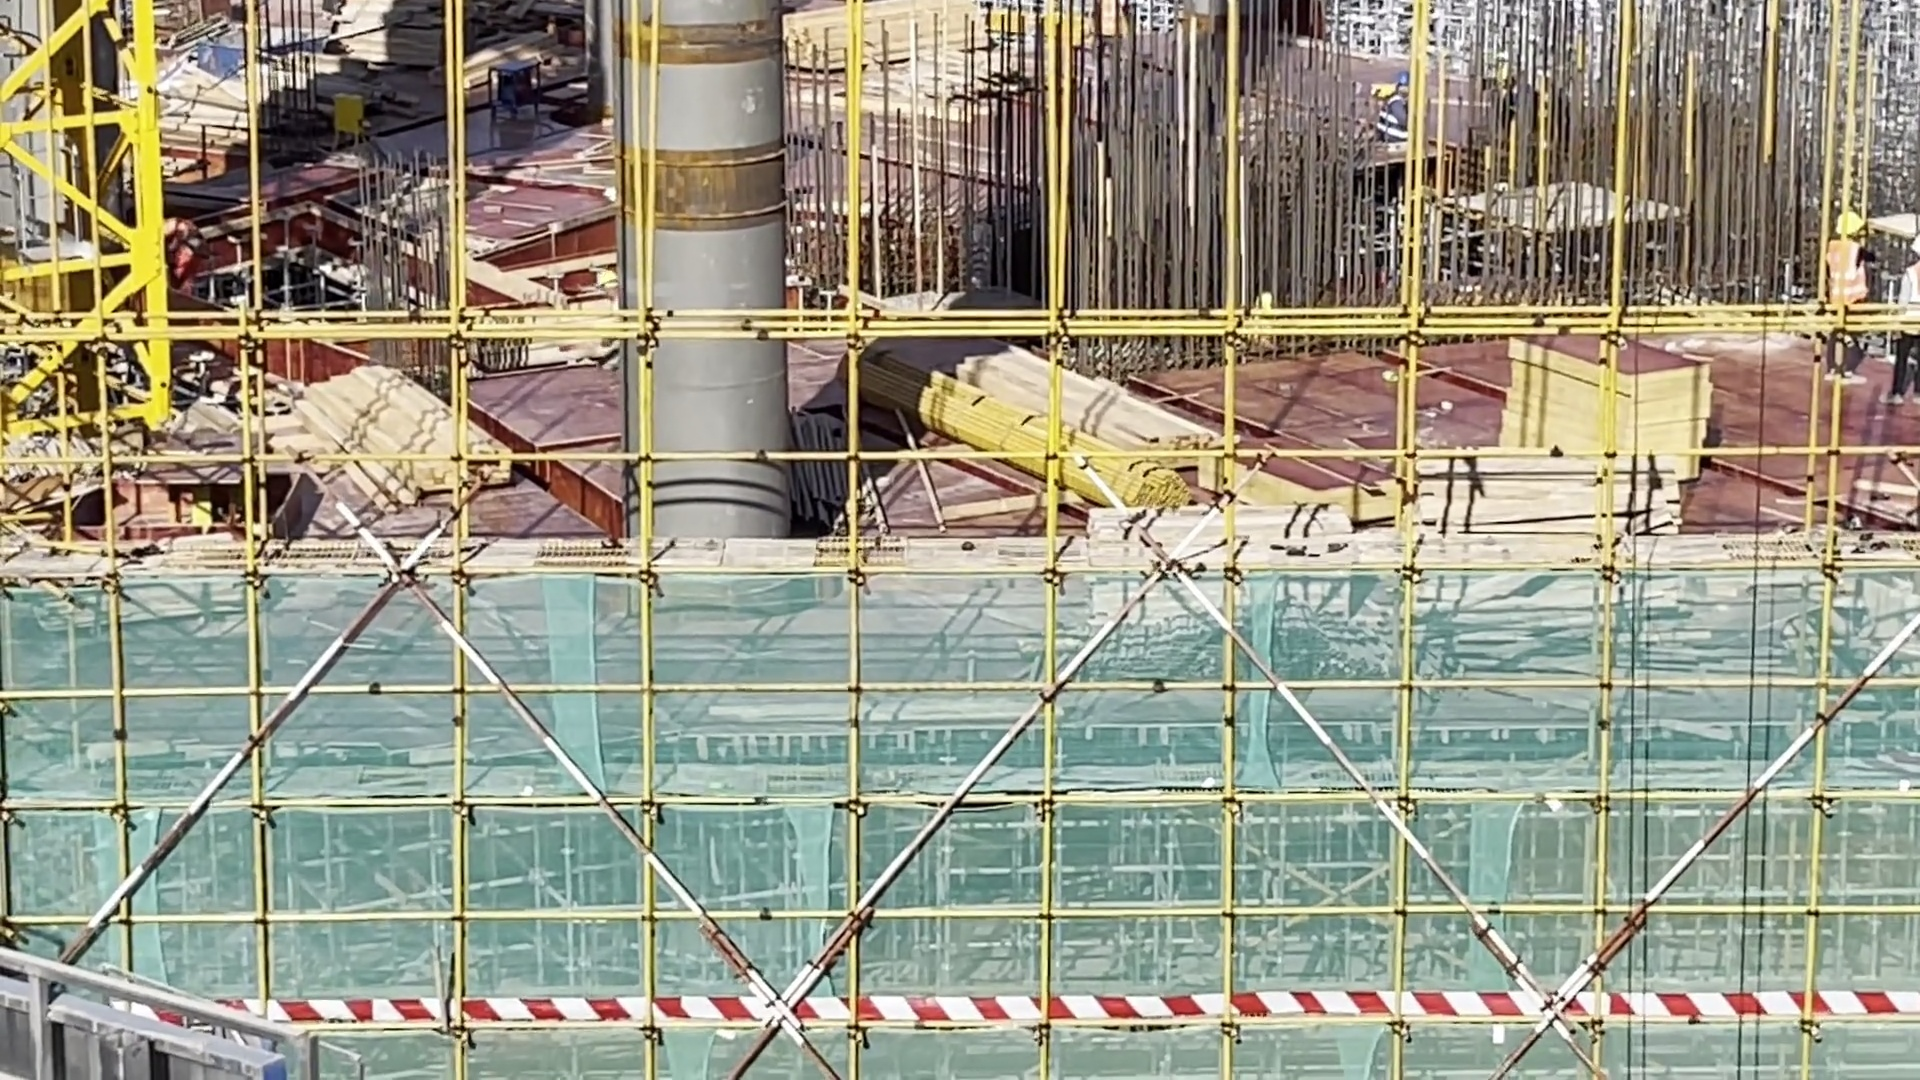board: (1533, 346, 1656, 494)
cutter: (116, 431, 246, 561)
ebox: (193, 487, 216, 529), (328, 86, 356, 121)
helmet: (1836, 214, 1868, 241), (1498, 67, 1524, 86), (1389, 72, 1418, 87), (1904, 232, 1920, 249)
person: (1795, 195, 1867, 389), (1482, 53, 1585, 145), (1879, 223, 1919, 404), (1086, 1, 1151, 84), (159, 206, 211, 272), (1489, 54, 1536, 118), (1381, 66, 1409, 163)
vest: (1825, 238, 1861, 310), (1904, 259, 1920, 323), (1390, 97, 1411, 143), (175, 217, 204, 247), (1106, 1, 1130, 32)
wood: (923, 321, 1206, 474), (316, 377, 531, 507), (768, 11, 988, 71)
